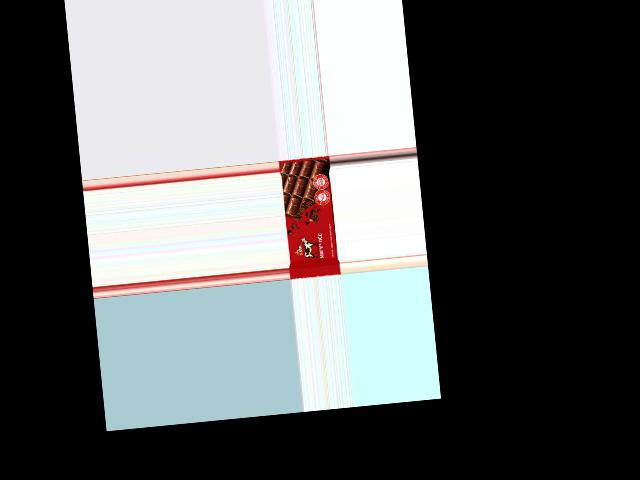chocolate: (279, 157, 340, 280)
